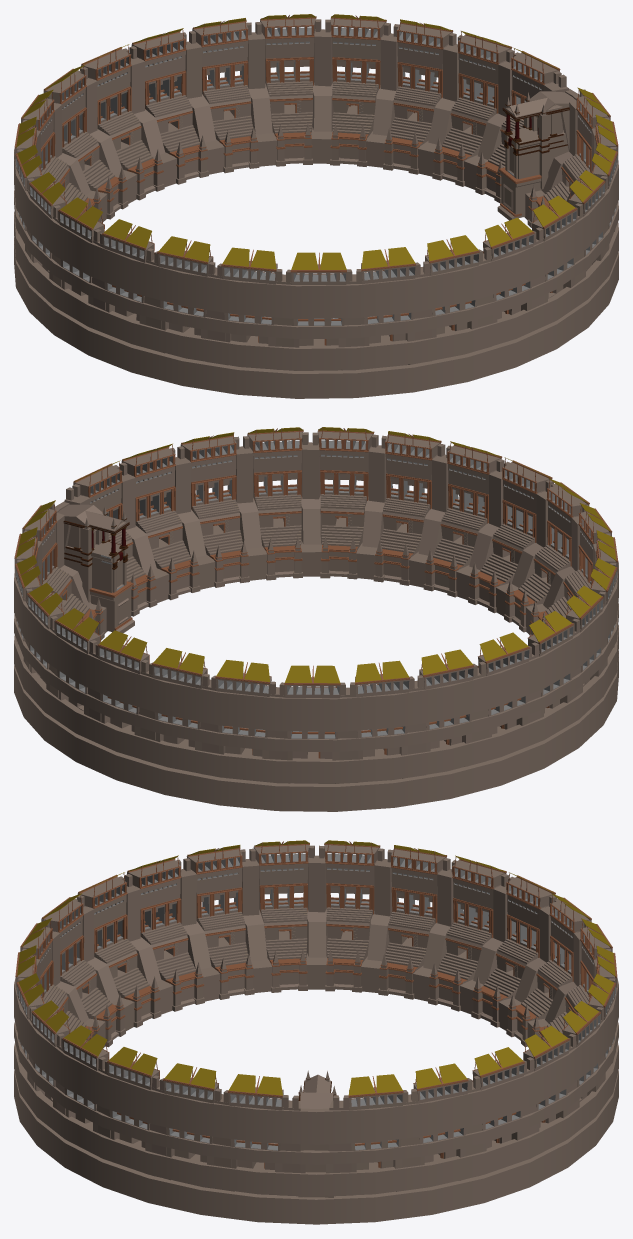
The model's file is Buildings.fbx.
3 renders of one model, top to bottom at view 1: azimuth 30°, elevation 25°; view 2: azimuth 150°, elevation 25°; view 3: azimuth 270°, elevation 25°, orthographic.
Visible parts, largest first — view 1: Arena; view 2: Arena; view 3: Arena.
Boxes of the visible parts, x1,y1,x2,y2 form: Arena: [14, 14, 618, 398]; Arena: [14, 427, 618, 811]; Arena: [14, 840, 618, 1224].
Size of the model in its own units: 11520 by 2885 by 11520.
1 material, 1 textured.
